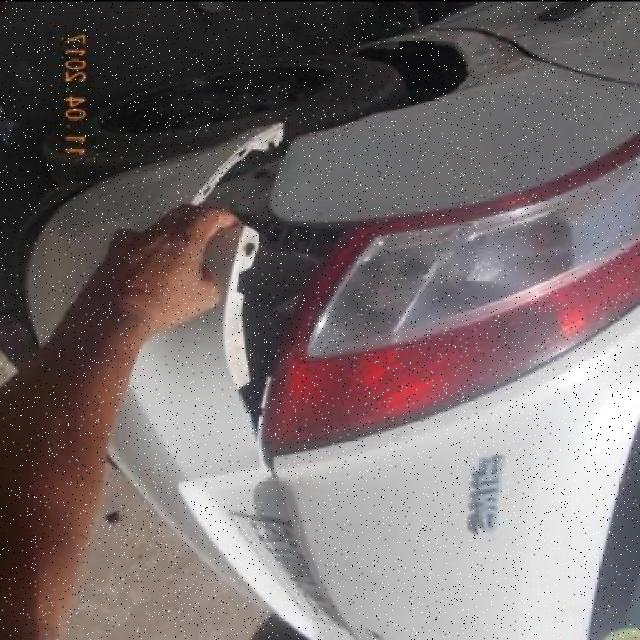damage: (192, 115, 353, 431), (344, 24, 541, 92), (434, 2, 632, 63)
